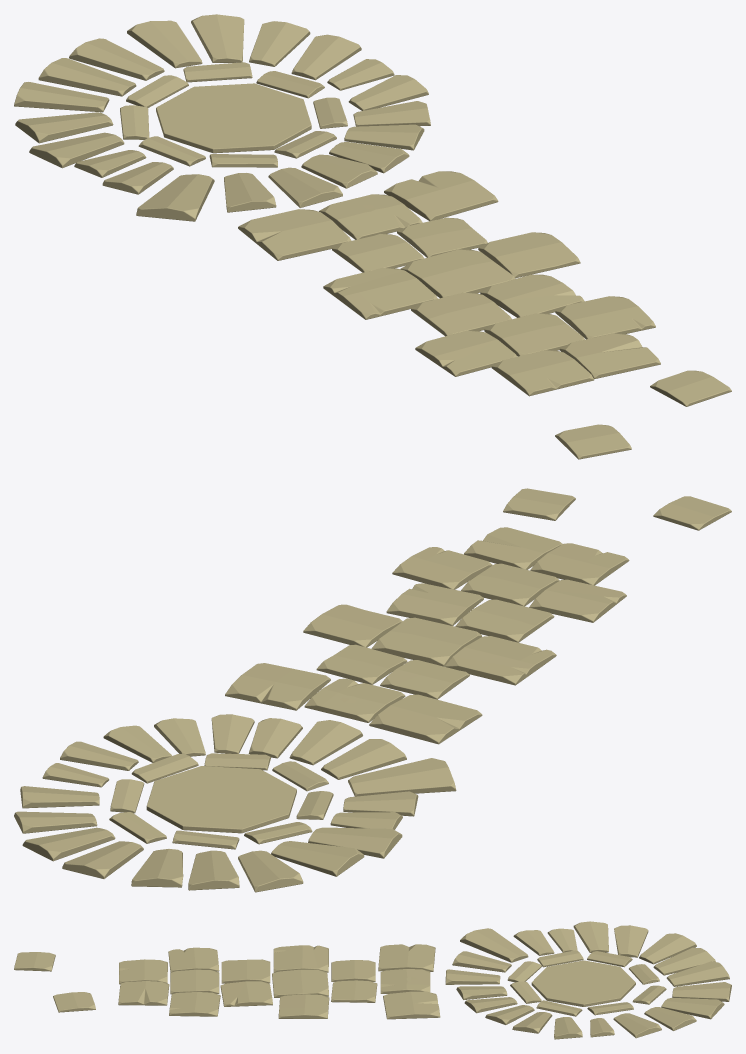
The model's file is Circletile_high.fbx.
3 renders of one model, top to bottom at view 1: azimuth 30°, elevation 25°; view 2: azimuth 150°, elevation 25°; view 3: azimuth 270°, elevation 25°, orthographic. The views are drawn at different scales.
Visible parts, largest first — view 1: Circletile_high; view 2: Circletile_high; view 3: Circletile_high.
Part boxes in pixels (<box>): Circletile_high: <box>14,14,731,459</box>; Circletile_high: <box>14,488,731,892</box>; Circletile_high: <box>14,921,731,1039</box>.
Size of the model in its own units: 331 by 12.93 by 884.
